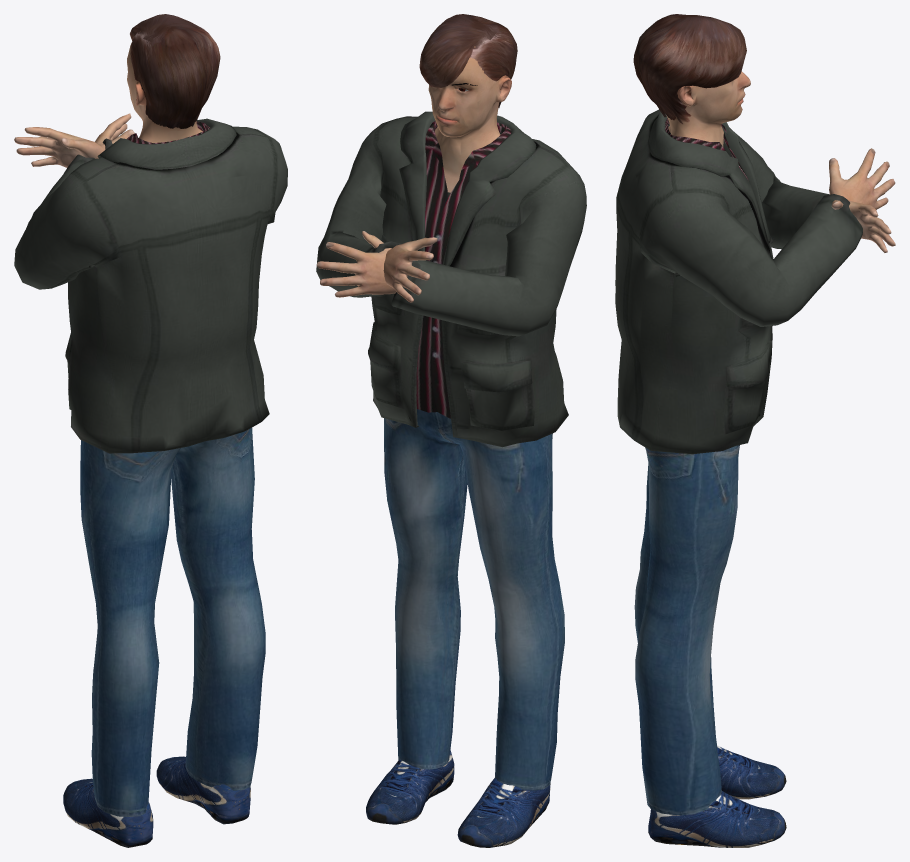
The model's file is clapping_2.gltf.
The picture shows the model from 3 angles, left to right: view 1: azimuth 30°, elevation 25°; view 2: azimuth 150°, elevation 25°; view 3: azimuth 270°, elevation 25°; orthographic projection.
Parts seen in each view (by area): view 1: clapping; view 2: clapping; view 3: clapping.
Boxes of the visible parts, left/top/right/bottom form: clapping: left=14, top=14, right=287, bottom=847; clapping: left=316, top=14, right=586, bottom=847; clapping: left=615, top=14, right=895, bottom=847.
Bounding box in the file's own units: 0.5371 × 1.77 × 0.5618.
6 materials, 6 textured.
